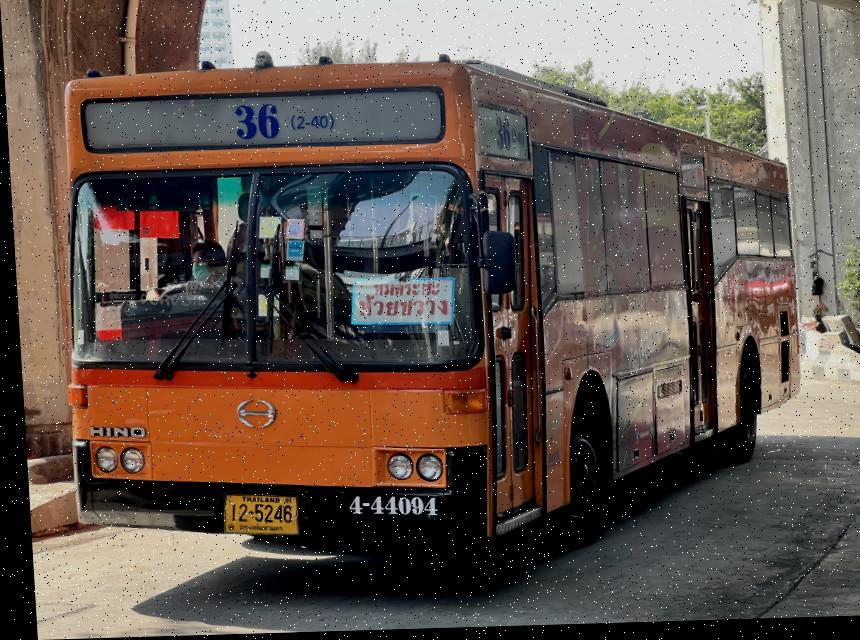BMTA-bus: (51, 57, 797, 556)
Bus Line Number: (226, 101, 340, 147)
Bus Side Number: (336, 492, 439, 523)
Destination Sign: (341, 279, 455, 332)
